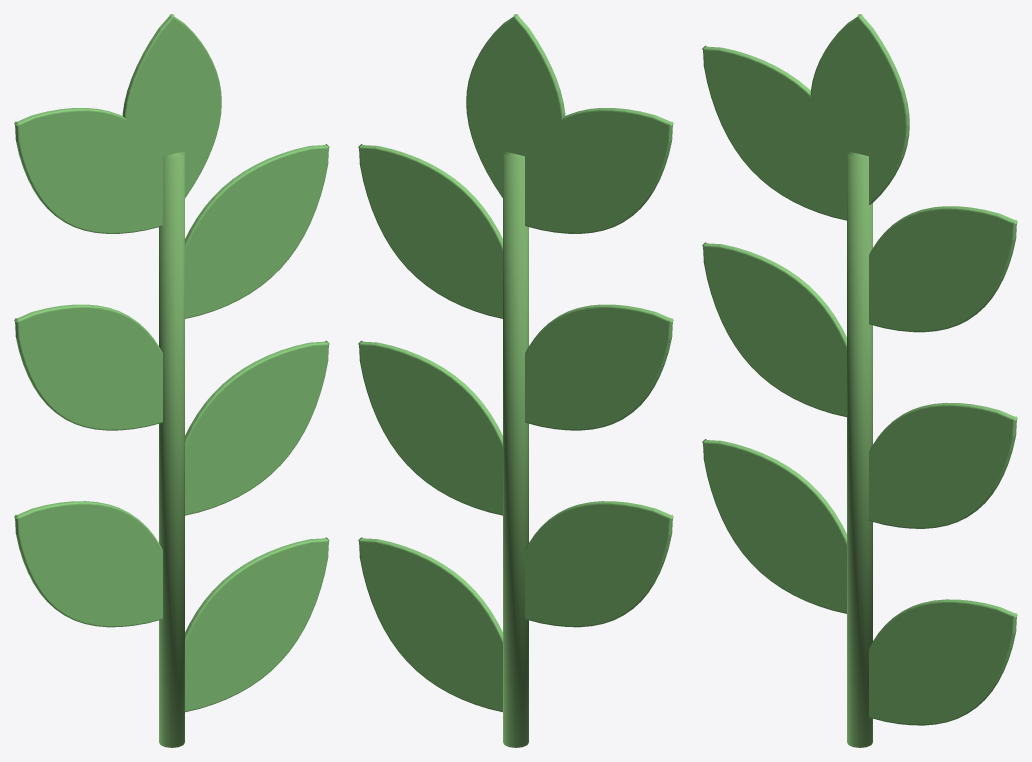
File: herb.glb
3 renders of one model, left to right at view 1: azimuth 30°, elevation 25°; view 2: azimuth 150°, elevation 25°; view 3: azimuth 330°, elevation 25°, orthographic.
Parts seen in each view (by area): view 1: poly.003, poly.002, poly.004, poly.001, poly, poly.005, Cylinder, poly.006; view 2: poly.003, poly.002, poly.004, poly.001, poly, poly.005, Cylinder, poly.006; view 3: poly.001, poly, poly.004, poly.002, poly.003, poly.005, Cylinder, poly.006.
Part boxes in pixels (bbox=[...]): poly.003: bbox=[14, 304, 162, 430]; poly.002: bbox=[185, 340, 329, 515]; poly.004: bbox=[185, 144, 329, 318]; poly.001: bbox=[14, 501, 162, 627]; poly: bbox=[185, 537, 329, 712]; poly.005: bbox=[14, 108, 162, 233]; Cylinder: bbox=[159, 151, 184, 747]; poly.006: bbox=[122, 14, 221, 202]; poly.003: bbox=[525, 304, 673, 430]; poly.002: bbox=[358, 340, 502, 515]; poly.004: bbox=[358, 144, 502, 318]; poly.001: bbox=[525, 501, 673, 627]; poly: bbox=[358, 537, 502, 712]; poly.005: bbox=[525, 108, 673, 233]; Cylinder: bbox=[503, 151, 528, 747]; poly.006: bbox=[466, 14, 565, 202]; poly.001: bbox=[702, 439, 846, 613]; poly: bbox=[869, 599, 1017, 725]; poly.004: bbox=[869, 206, 1017, 332]; poly.002: bbox=[869, 402, 1017, 528]; poly.003: bbox=[702, 242, 846, 417]; poly.005: bbox=[702, 45, 846, 220]; Cylinder: bbox=[847, 151, 872, 747]; poly.006: bbox=[810, 14, 909, 204].
Size of the model in its own units: 0.8232 by 1.82 by 0.0591.
